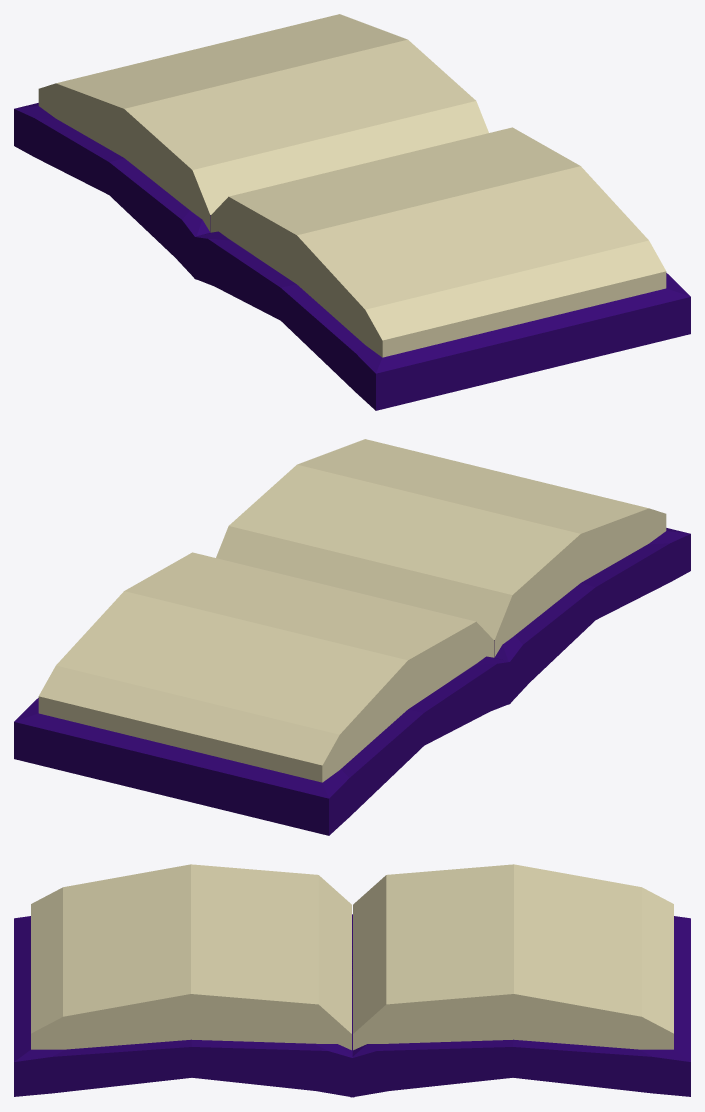
The model's file is quick open book.fbx.
3 renders of one model, top to bottom at view 1: azimuth 30°, elevation 25°; view 2: azimuth 150°, elevation 25°; view 3: azimuth 270°, elevation 25°, orthographic. The views are drawn at different scales.
Visible parts, largest first — view 1: Cube; view 2: Cube; view 3: Cube.
Part boxes in pixels (x1=…): Cube: x1=14, y1=14, x2=690, y2=410; Cube: x1=14, y1=439, x2=690, y2=835; Cube: x1=14, y1=864, x2=690, y2=1097.
Bounding box in the file's own units: 200 × 62.63 × 398.
